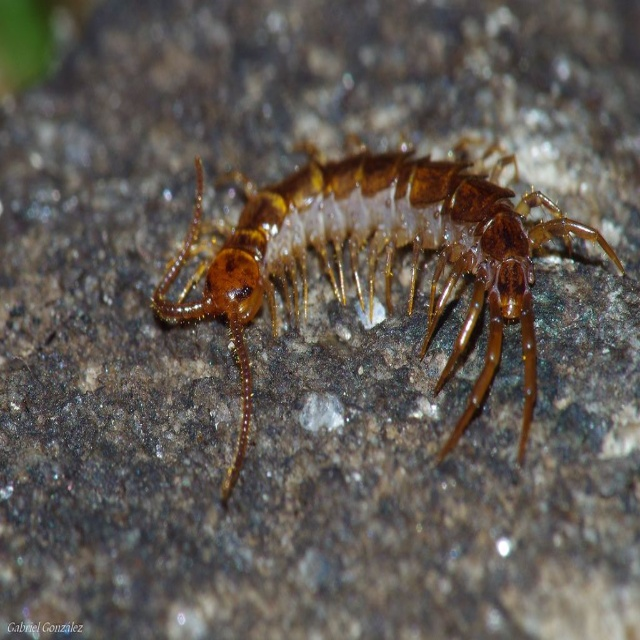Centipede: (150, 129, 628, 498)
